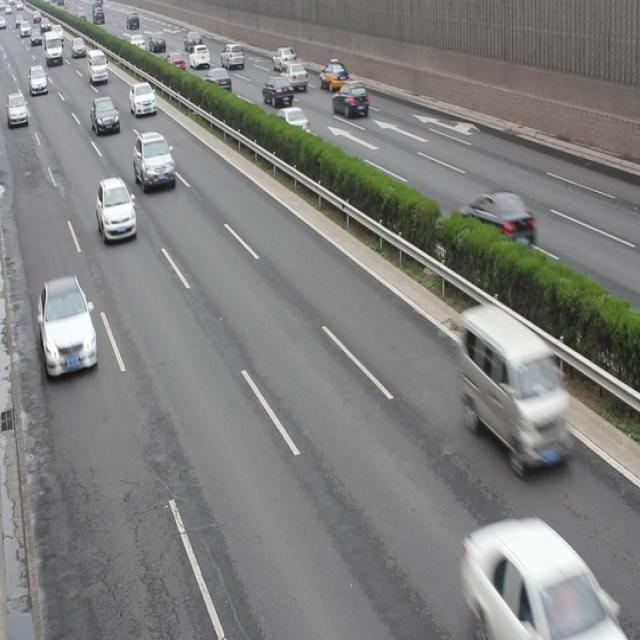car: (465, 515, 615, 640), (38, 274, 96, 380), (460, 190, 537, 258), (133, 128, 176, 194), (96, 175, 136, 245), (331, 79, 368, 119), (274, 106, 309, 143), (92, 96, 121, 137), (262, 74, 293, 109), (130, 80, 158, 118), (320, 59, 350, 94), (204, 66, 232, 98), (281, 60, 308, 92), (273, 45, 297, 74)
truck: (458, 304, 573, 473)
